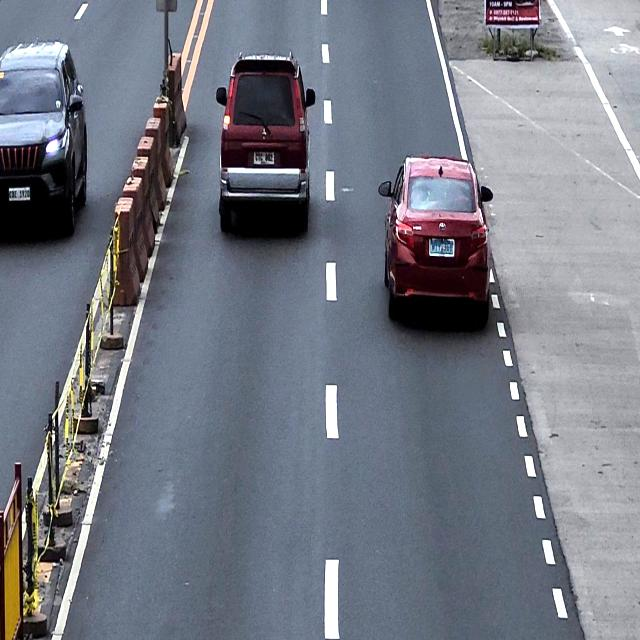Car: (378, 154, 493, 326), (216, 51, 316, 232), (0, 39, 88, 233)
License-Plate: (429, 237, 455, 256), (8, 187, 32, 202), (253, 150, 275, 166)
